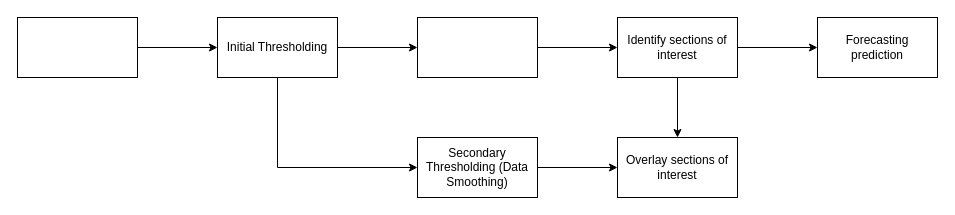
This 955x215 diagram has some shape labels left out. Each missing label, with the box of its shape:
Prophet Prediction: (416, 16, 538, 78)
Raw Data: (16, 16, 138, 78)
